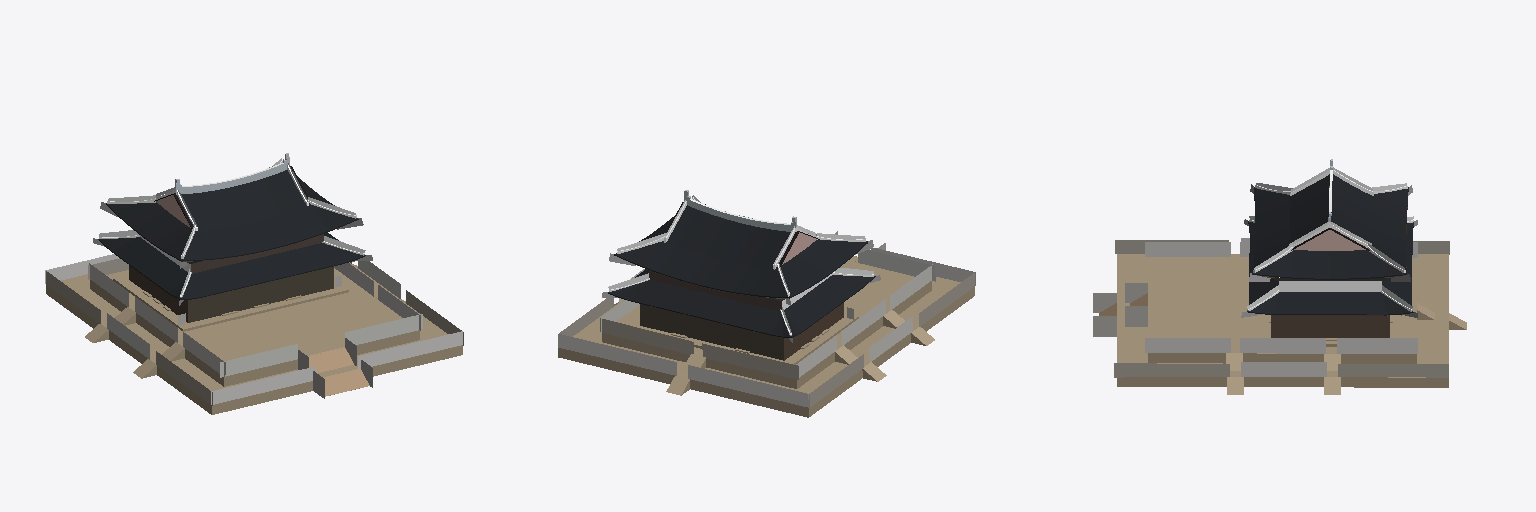
The model's file is kunjungjun.obj.
3 renders of one model, left to right at view 1: azimuth 30°, elevation 25°; view 2: azimuth 150°, elevation 25°; view 3: azimuth 270°, elevation 25°, orthographic.
Visible parts, largest first — view 1: default; view 2: default; view 3: default.
Part boxes in pixels (left/top/right/bottom): default: left=45, top=153, right=463, bottom=414; default: left=558, top=190, right=975, bottom=417; default: left=1093, top=159, right=1466, bottom=394.
Bounding box in the file's own units: 58.85 × 28.07 × 67.46.